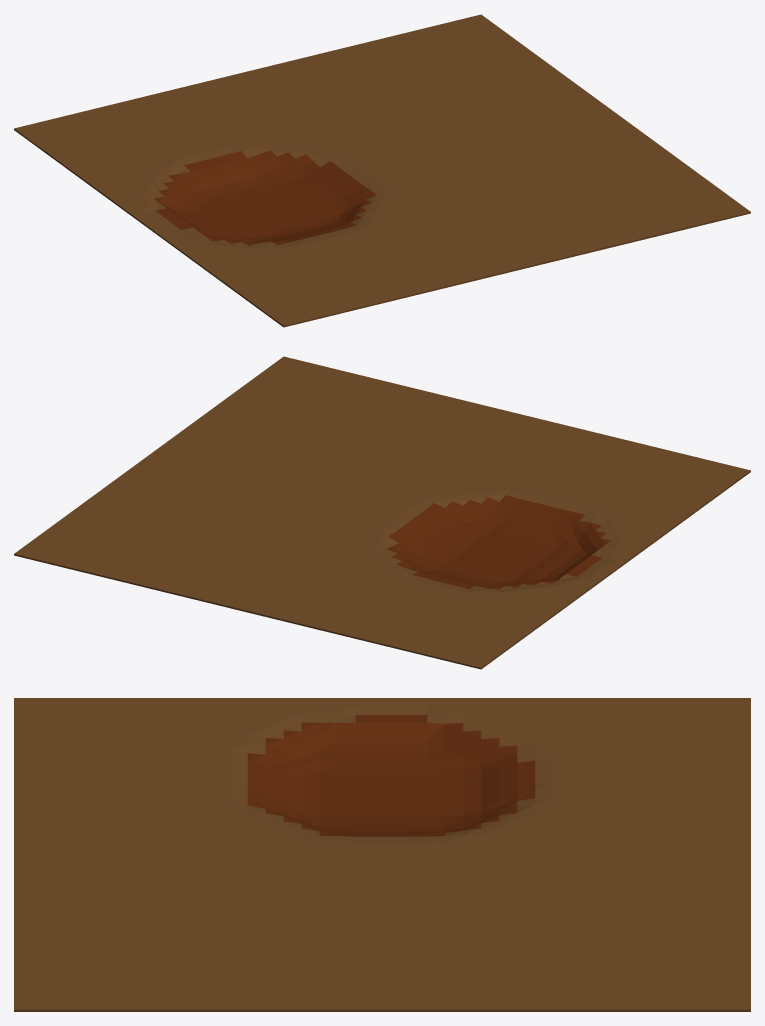
File: pond_ground.gltf
3 renders of one model, top to bottom at view 1: azimuth 30°, elevation 25°; view 2: azimuth 150°, elevation 25°; view 3: azimuth 270°, elevation 25°, orthographic. The views are drawn at different scales.
Parts seen in each view (by area): view 1: ground; view 2: ground; view 3: ground.
Boxes of the visible parts, left/top/right/bottom form: ground: left=14, top=14, right=750, bottom=327; ground: left=14, top=356, right=750, bottom=669; ground: left=14, top=698, right=750, bottom=1011.
Bounding box in the file's own units: 30 × 0.9866 × 30.
2 materials, 2 textured.
